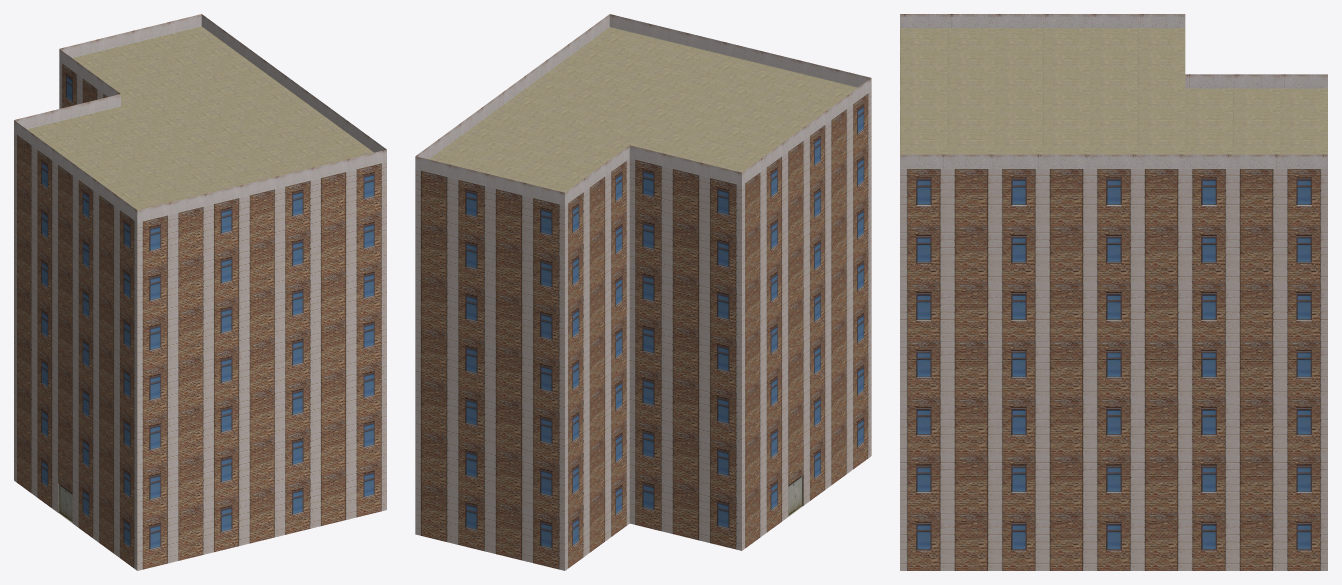
File: flat_Lshape_vertical_stripes.glb
The picture shows the model from 3 angles, left to right: view 1: azimuth 30°, elevation 25°; view 2: azimuth 150°, elevation 25°; view 3: azimuth 270°, elevation 25°; orthographic projection. The views are drawn at different scales.
Parts seen in each view (by area): view 1: flat_Lshape_vertical_stripes; view 2: flat_Lshape_vertical_stripes; view 3: flat_Lshape_vertical_stripes.
Boxes of the visible parts, x1,y1,x2,y2 form: flat_Lshape_vertical_stripes: [14, 14, 386, 570]; flat_Lshape_vertical_stripes: [415, 14, 871, 570]; flat_Lshape_vertical_stripes: [900, 14, 1327, 570].
Size of the model in its own units: 21 by 29 by 27.
Materials: 1 (1 with a texture image).
